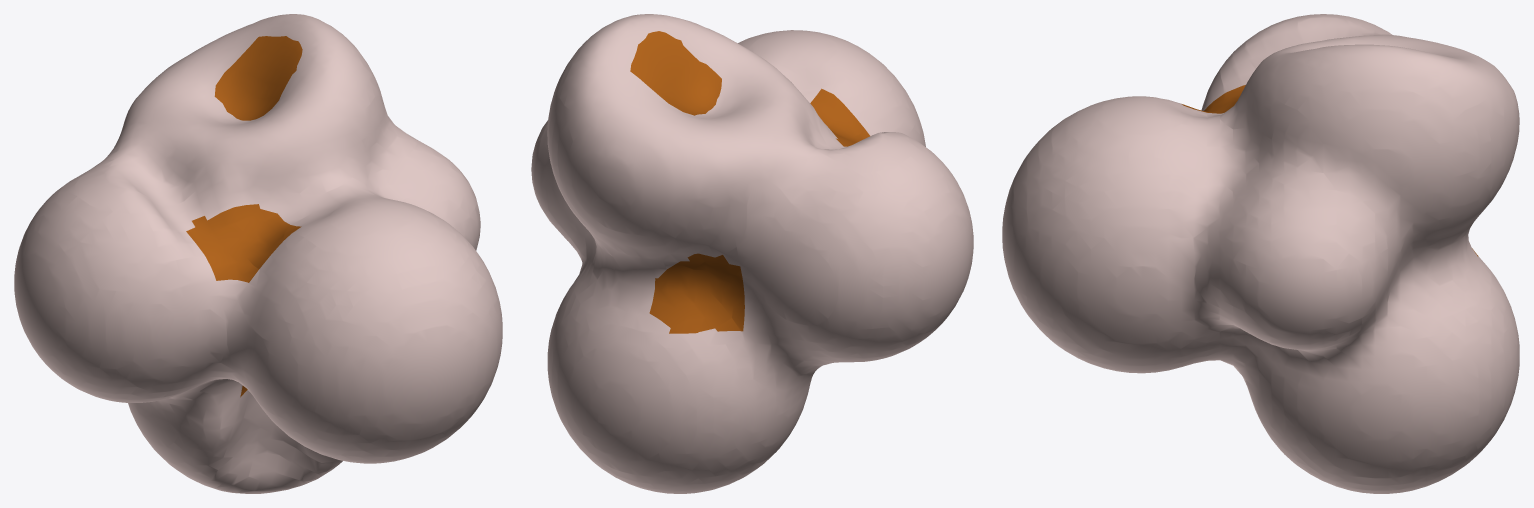
The model's file is pop003.fbx.
3 renders of one model, left to right at view 1: azimuth 30°, elevation 25°; view 2: azimuth 150°, elevation 25°; view 3: azimuth 270°, elevation 25°, orthographic. The views are drawn at different scales.
Visible parts, largest first — view 1: POPCORN_003; view 2: POPCORN_003; view 3: POPCORN_003.
Boxes of the visible parts, box(x1,y1,x2,y2) form: POPCORN_003: box(14, 14, 502, 493); POPCORN_003: box(531, 14, 973, 493); POPCORN_003: box(1002, 14, 1519, 493).
Bounding box in the file's own units: 419 × 416 × 421.
